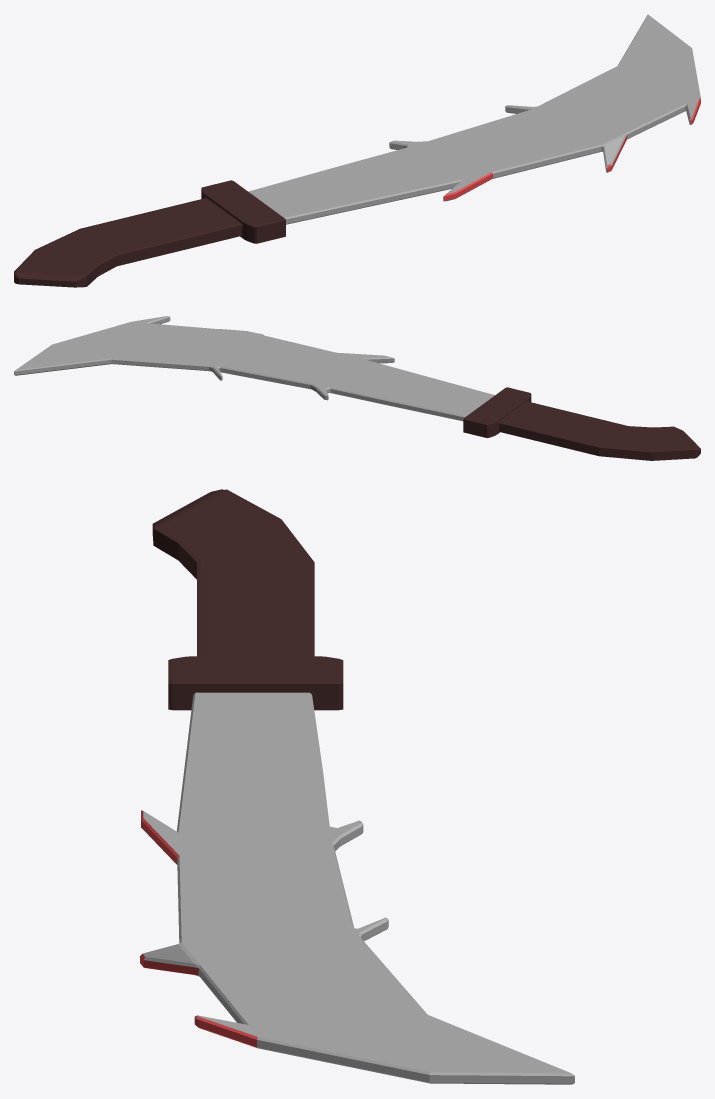
The model's file is knife.fbx.
3 renders of one model, top to bottom at view 1: azimuth 30°, elevation 25°; view 2: azimuth 150°, elevation 25°; view 3: azimuth 270°, elevation 25°, orthographic. The views are drawn at different scales.
Parts seen in each view (by area): view 1: Plane, Cube; view 2: Plane, Cube; view 3: Plane, Cube.
Boxes of the visible parts, x1,y1,x2,y2 form: Plane: (248, 14, 700, 224); Cube: (14, 180, 285, 287); Plane: (14, 316, 494, 421); Cube: (463, 387, 700, 460); Plane: (140, 692, 574, 1084); Cube: (152, 489, 343, 710).
Bounding box in the file's own units: 707 × 21.28 × 223.
